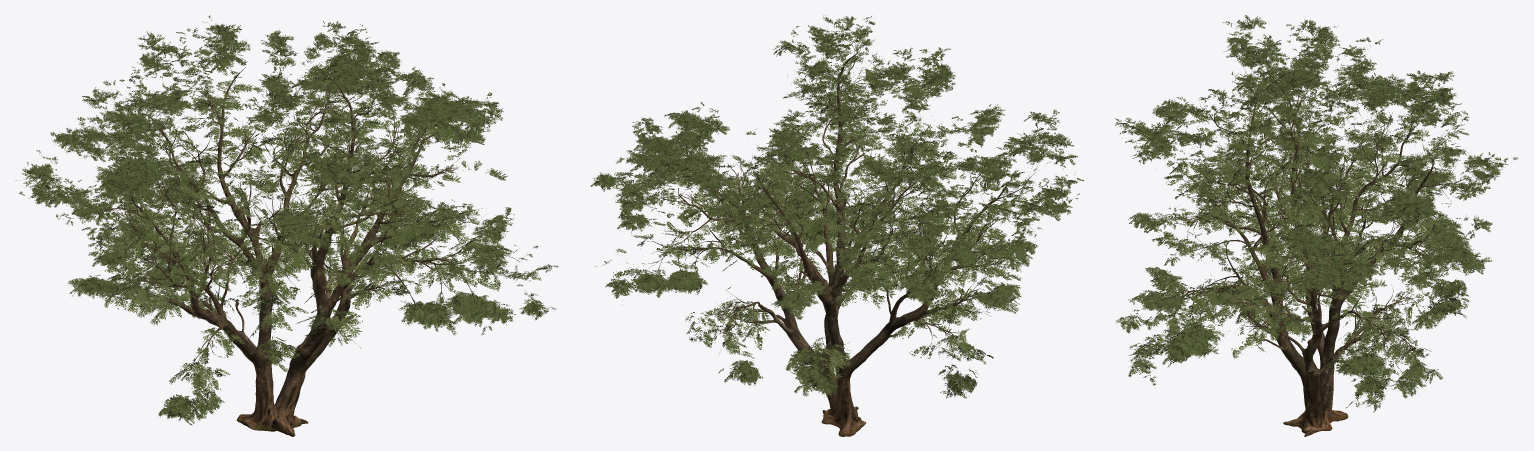
File: tree_big.gltf
3 renders of one model, left to right at view 1: azimuth 30°, elevation 25°; view 2: azimuth 150°, elevation 25°; view 3: azimuth 270°, elevation 25°, orthographic. The views are drawn at different scales.
Parts seen in each view (by area): view 1: jacaranda_tree_LOD0; view 2: jacaranda_tree_LOD0; view 3: jacaranda_tree_LOD0.
Boxes of the visible parts, box(x1,y1,x2,y2) form: jacaranda_tree_LOD0: box(16, 15, 558, 436); jacaranda_tree_LOD0: box(590, 15, 1083, 436); jacaranda_tree_LOD0: box(1115, 15, 1518, 436).
Size of the model in its own units: 24.56 by 19.49 by 19.12.
